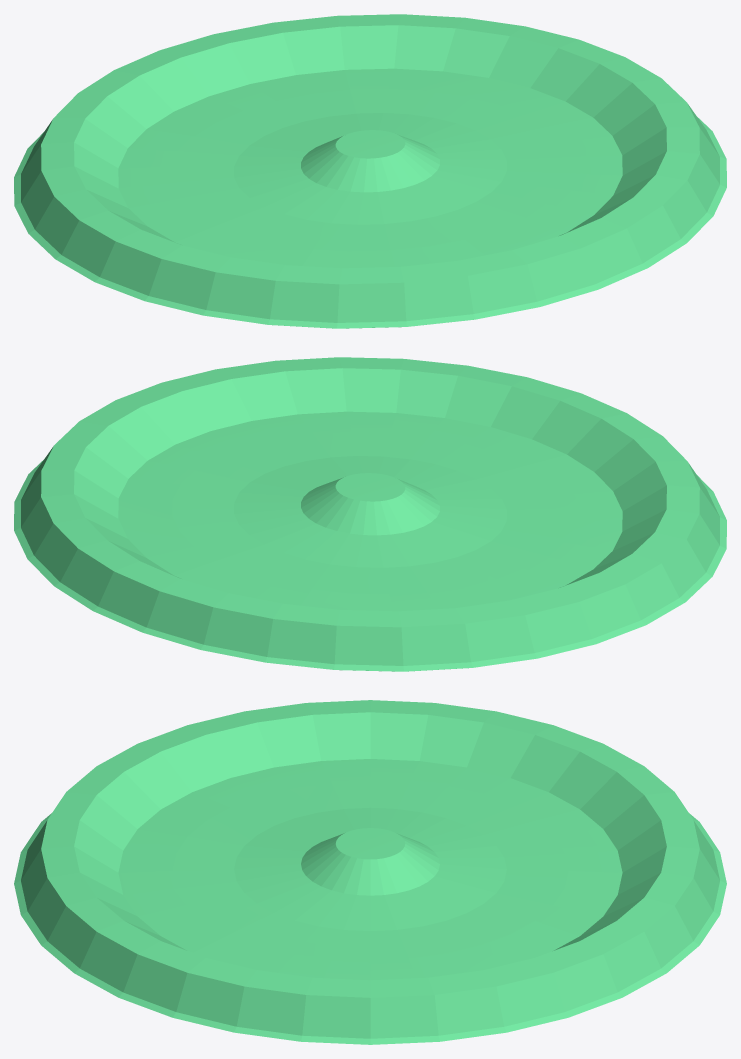
Rendered from Coverted_Circle.glb.
3 views of the same model, one above another, from view 1: azimuth 30°, elevation 25°; view 2: azimuth 150°, elevation 25°; view 3: azimuth 270°, elevation 25° (orthographic). The views are drawn at different scales.
Parts seen in each view (by area): view 1: Sphere; view 2: Sphere; view 3: Sphere.
Boxes of the visible parts, box(x1,y1,x2,y2) form: Sphere: box(14, 14, 726, 328); Sphere: box(14, 357, 726, 671); Sphere: box(14, 700, 726, 1044).
Size of the model in its own units: 1.66 by 0.1334 by 1.55.
